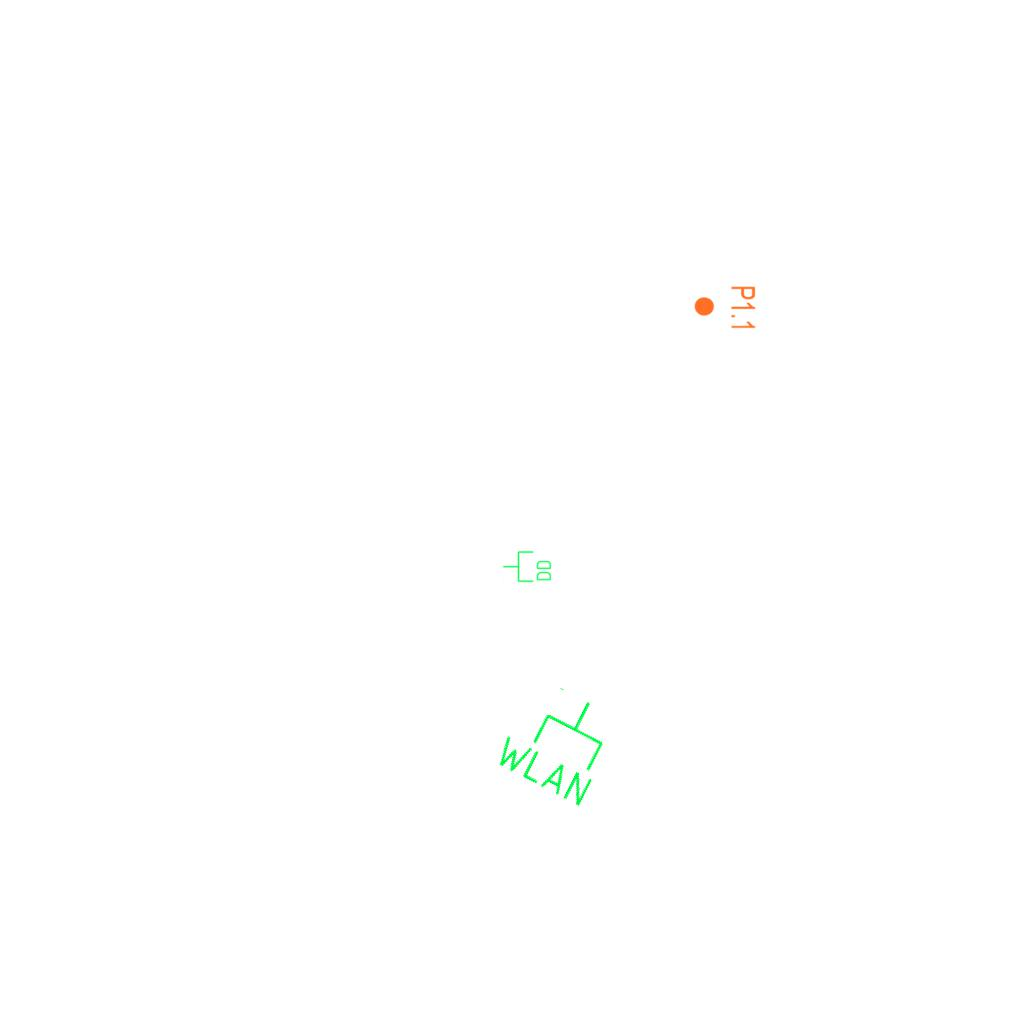Datenanschluss_zweifach: (502, 550, 553, 584)
Downlight_LED_Einbauleuchten_Flur: (693, 285, 757, 331)
WLAN: (487, 671, 629, 812)
